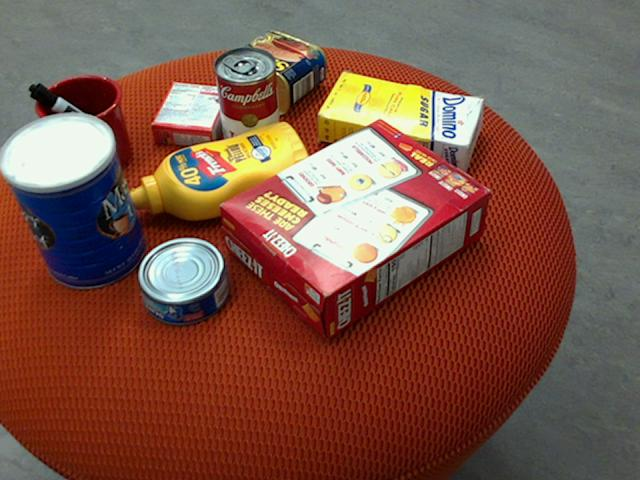cracker_box: (219, 117, 491, 338)
gelatin_box: (150, 80, 233, 147)
large_marker: (28, 83, 128, 155)
master_chef_can: (0, 112, 145, 289)
mug: (25, 75, 131, 177)
mustard_bottle: (125, 121, 314, 220)
potted_meat_can: (221, 31, 327, 115)
sugar_box: (317, 72, 486, 170)
tomato_soup_can: (214, 45, 280, 154)
tuna_fish_can: (137, 238, 230, 326)
